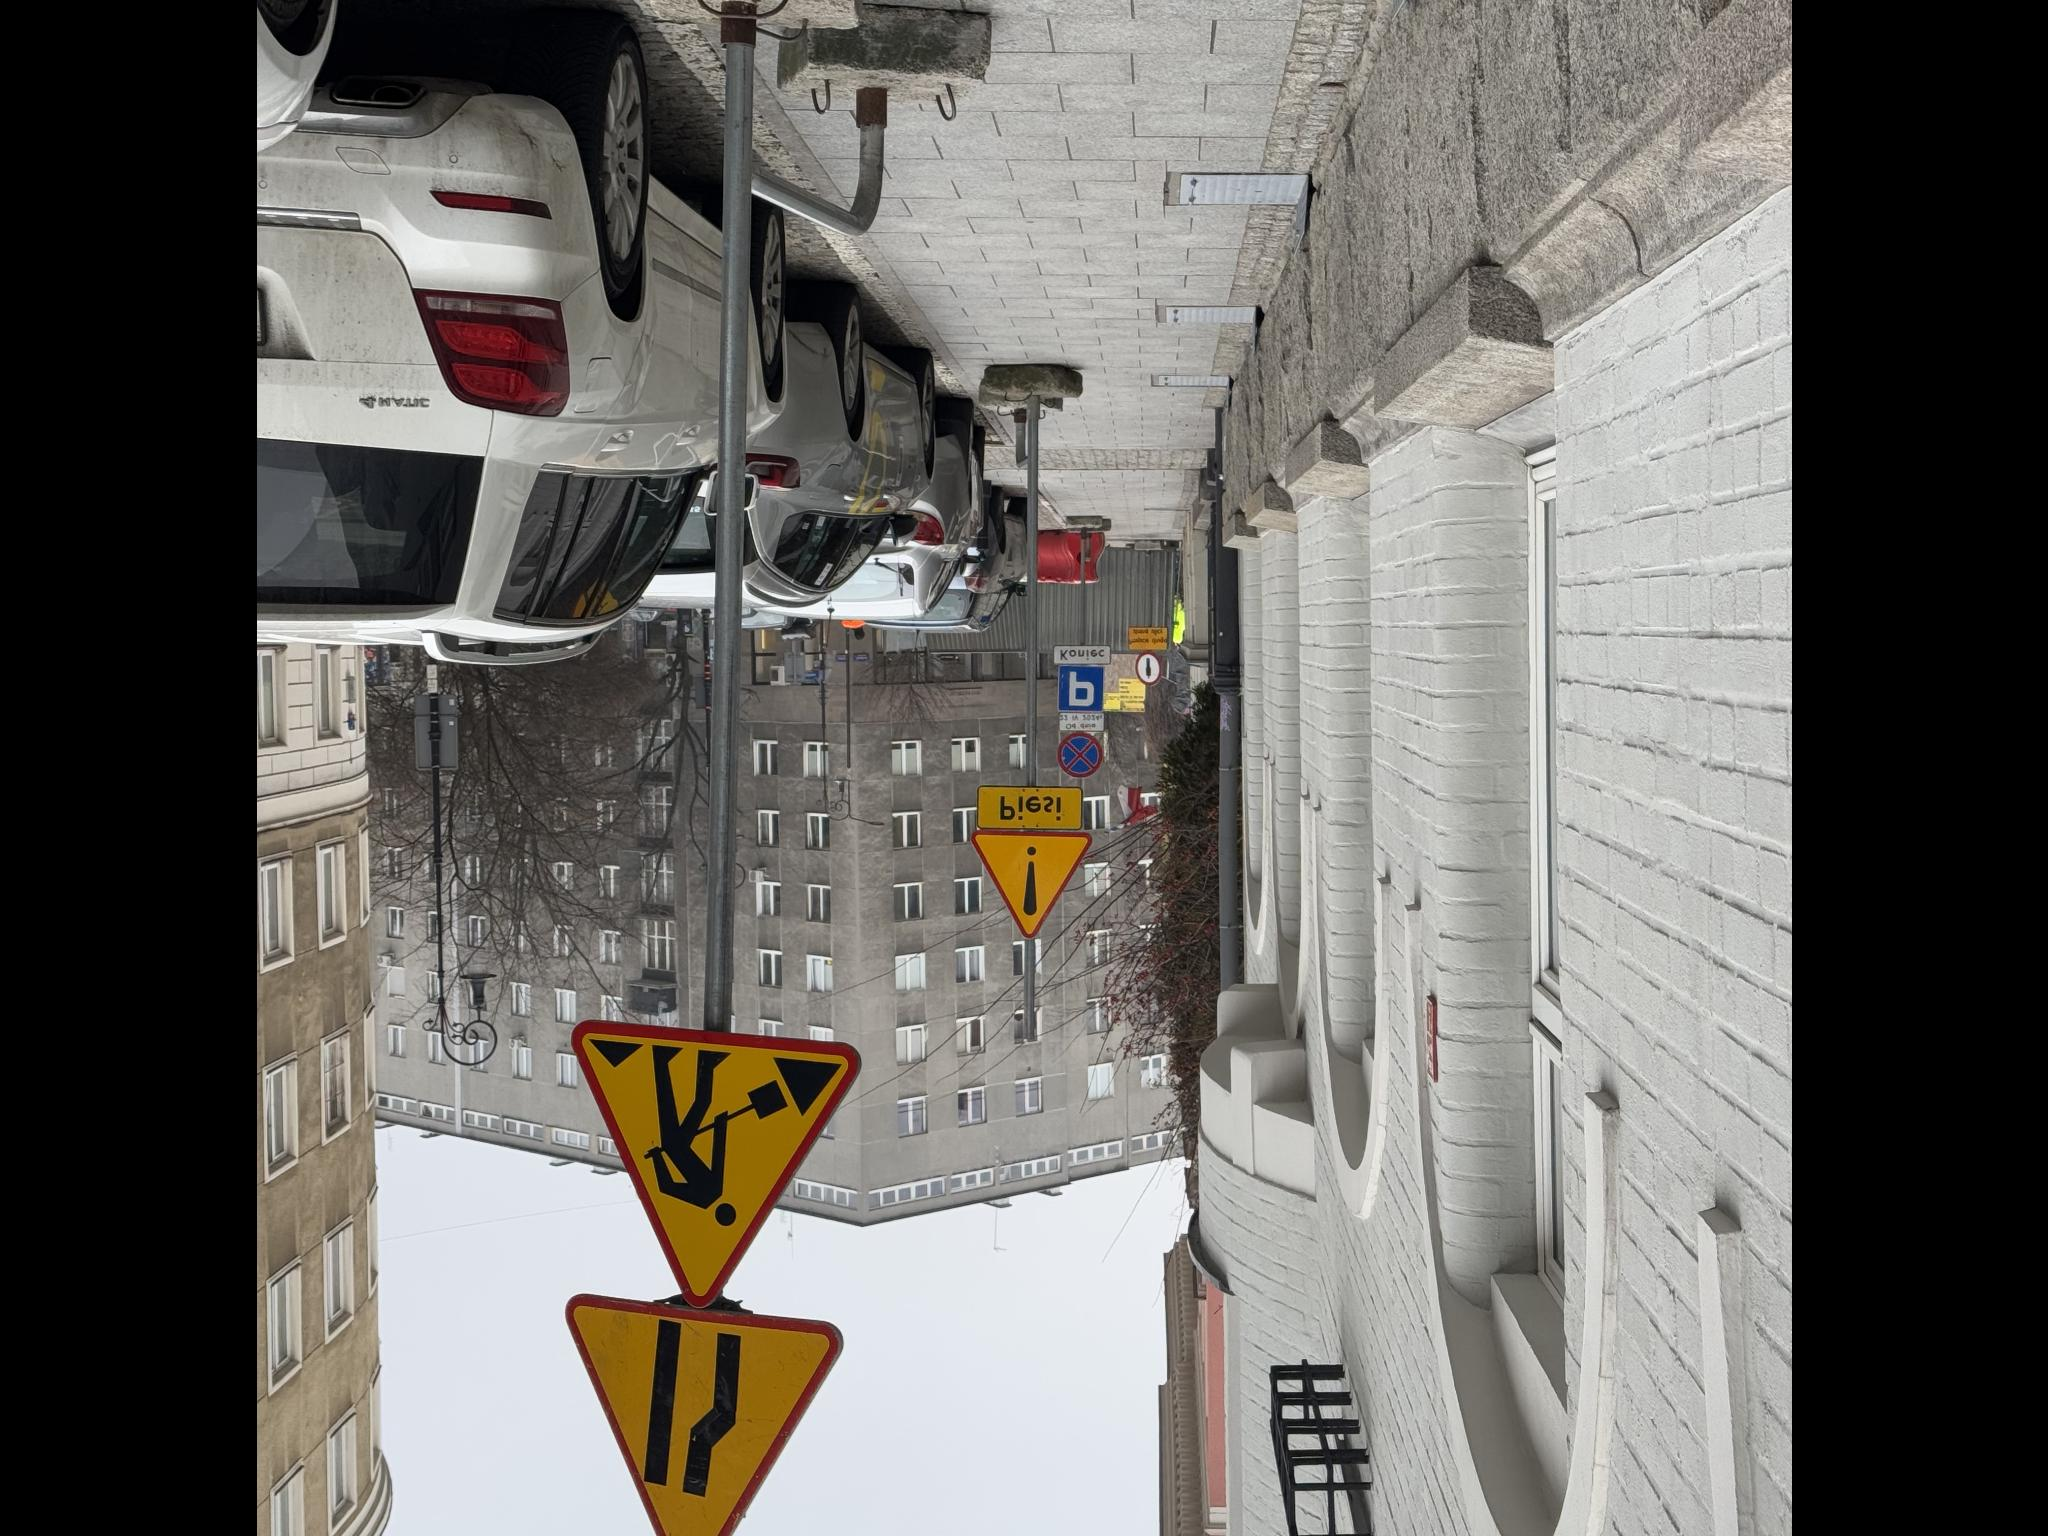information: (664, 944, 711, 992)
other: (785, 965, 830, 1071), (645, 937, 664, 995), (713, 944, 731, 991)
prohibitory: (732, 945, 779, 992), (650, 886, 687, 913)
warning: (1018, 1184, 1309, 1481), (1293, 1205, 1593, 1489), (830, 957, 940, 1079)
